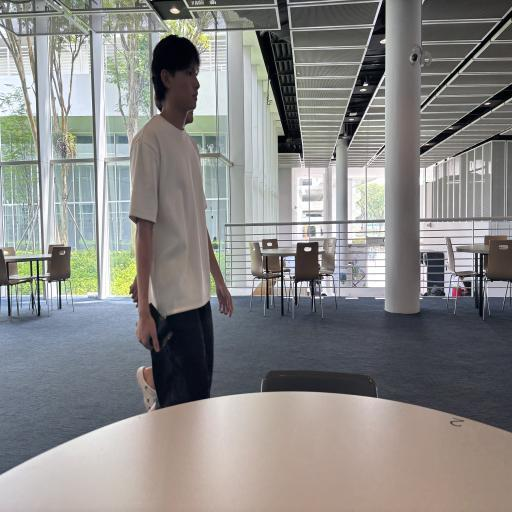person_right: (129, 40, 233, 408)
